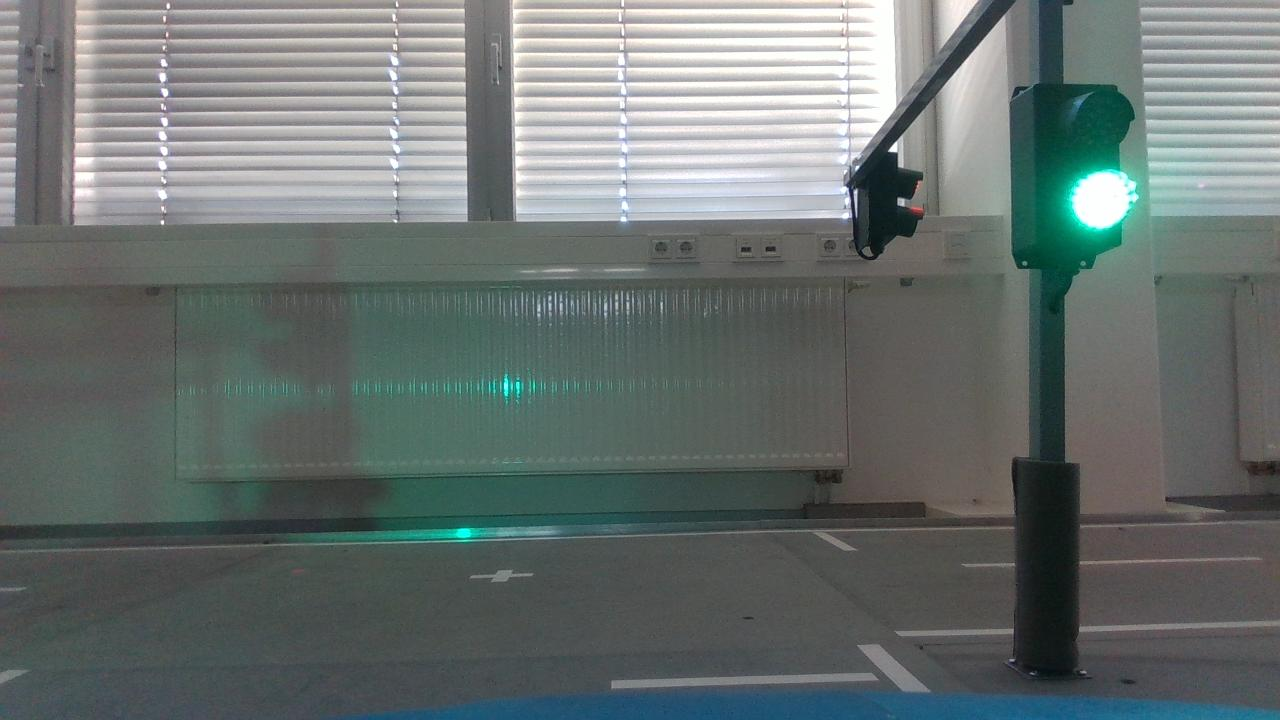traffic_light_green: (992, 61, 1155, 280)
